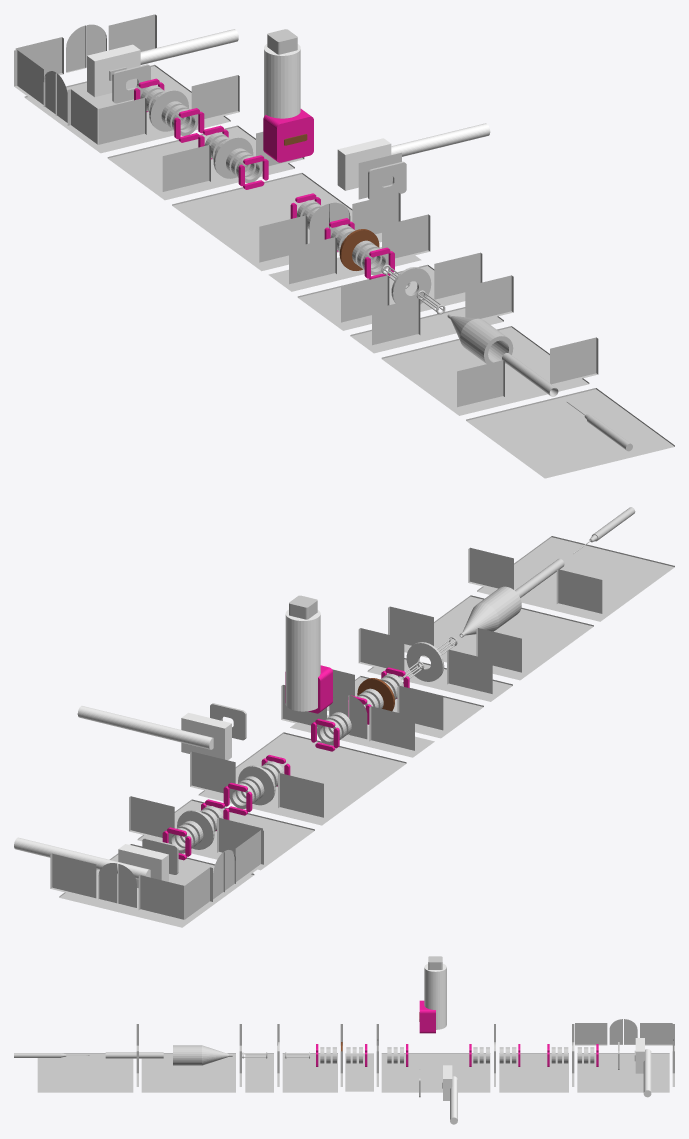
The model's file is ESIBD.glb.
The picture shows the model from 3 angles, top to bottom: view 1: azimuth 30°, elevation 25°; view 2: azimuth 150°, elevation 25°; view 3: azimuth 270°, elevation 25°; orthographic projection. The views are drawn at different scales.
Visible parts, largest first — view 1: Plane.023, Plane.020, Plane.016, Plane.012, Plane.015, Plane.008, Plane.009, Plane.011, Plane.021, Plane.010, Plane.013, Plane.022 (+26 smaller); view 2: Plane.023, Plane.020, Plane.016, Plane.013, Plane.011, Cylinder, Plane.012, Plane.007, Plane.015, Plane.008, Plane.021, Plane.010 (+22 smaller); view 3: Plane.020, Plane.023, Plane.022, Plane.016, Plane.021, Plane.018, Plane.014, Cylinder, Plane.017, Plane.019, Cylinder.019, Circle.002 (+6 smaller).
Boxes of the visible parts, x1,y1,x2,y2 form: Plane.023: (466, 388, 674, 478); Plane.020: (172, 173, 381, 271); Plane.016: (381, 326, 589, 415); Plane.012: (457, 337, 598, 408); Plane.015: (372, 275, 513, 346); Plane.008: (98, 75, 239, 146); Plane.009: (289, 214, 430, 285); Plane.011: (341, 252, 482, 323); Plane.021: (107, 125, 294, 200); Plane.010: (259, 192, 400, 263); Plane.013: (15, 14, 156, 78); Plane.022: (24, 65, 230, 153); Plane.023: (477, 536, 674, 621); Plane.020: (198, 732, 406, 825); Plane.016: (404, 595, 593, 680); Plane.013: (50, 853, 184, 920); Plane.011: (358, 628, 492, 695); Cylinder: (285, 609, 320, 711); Plane.012: (468, 547, 602, 614); Plane.007: (190, 751, 323, 818); Plane.015: (388, 606, 521, 673); Plane.008: (129, 796, 262, 855); Plane.021: (137, 799, 314, 870); Plane.010: (281, 685, 414, 752); Plane.020: (381, 1053, 490, 1092); Plane.023: (37, 1053, 133, 1092); Plane.022: (577, 1053, 669, 1092); Plane.016: (141, 1053, 235, 1092); Plane.021: (499, 1053, 568, 1092); Plane.018: (282, 1053, 337, 1092); Plane.014: (575, 1023, 672, 1045); Cylinder: (424, 963, 446, 1029); Plane.017: (245, 1053, 273, 1092); Plane.019: (345, 1053, 373, 1091); Cylinder.019: (173, 1045, 232, 1065); Circle.002: (609, 1019, 637, 1044).
Bounding box in the file's own units: 9.36 × 5.73 × 30.13.
